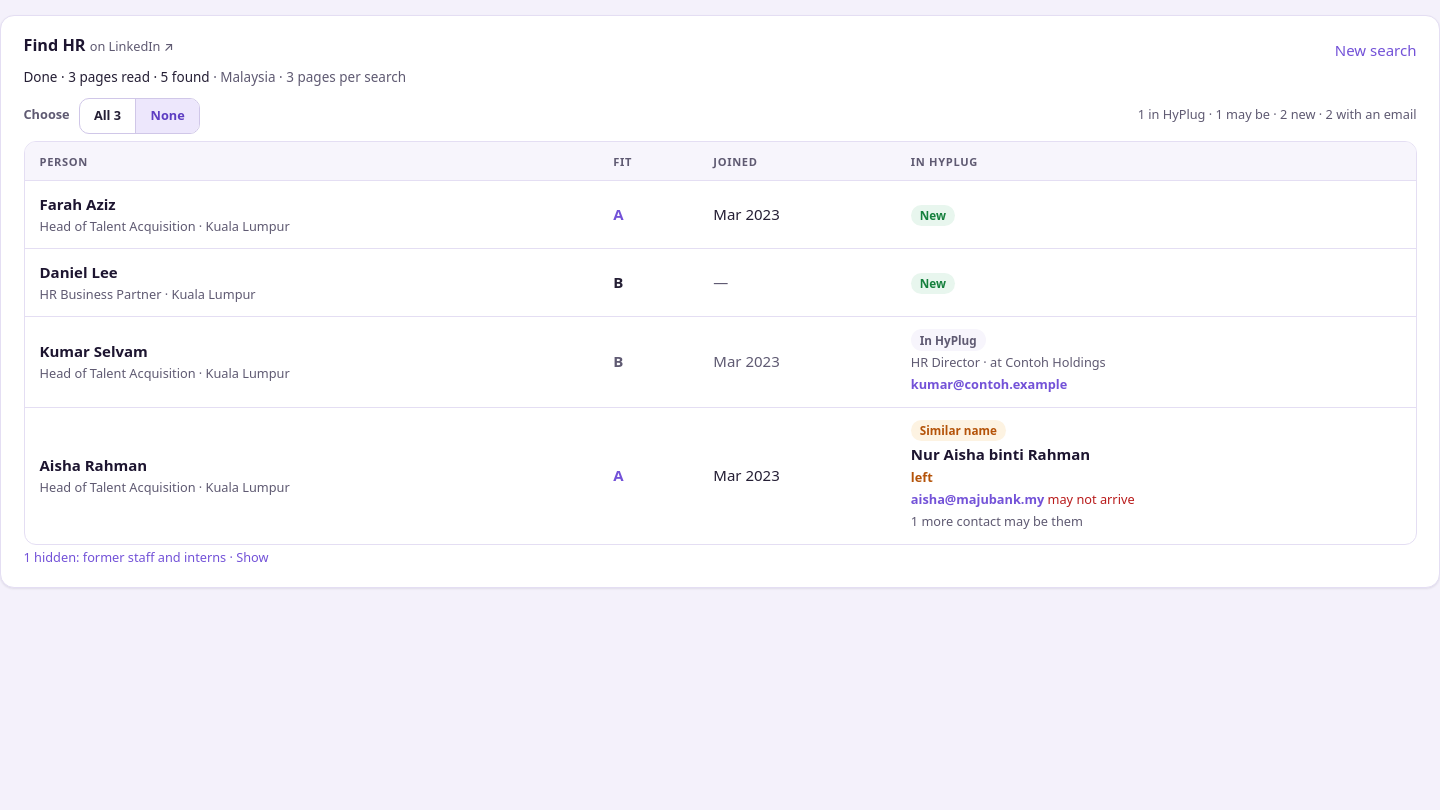
Test case: Find HR › chooses by clicking a row (not its name), All and None, and adds the chosen as contacts with a guessed email
Later steps or results of the test are not shown.
Click the link "Farah Aziz": [78, 204] box 40,194 -> 116,214
Click the text "Daniel Lee": [720, 283] box 24,249 -> 1416,317
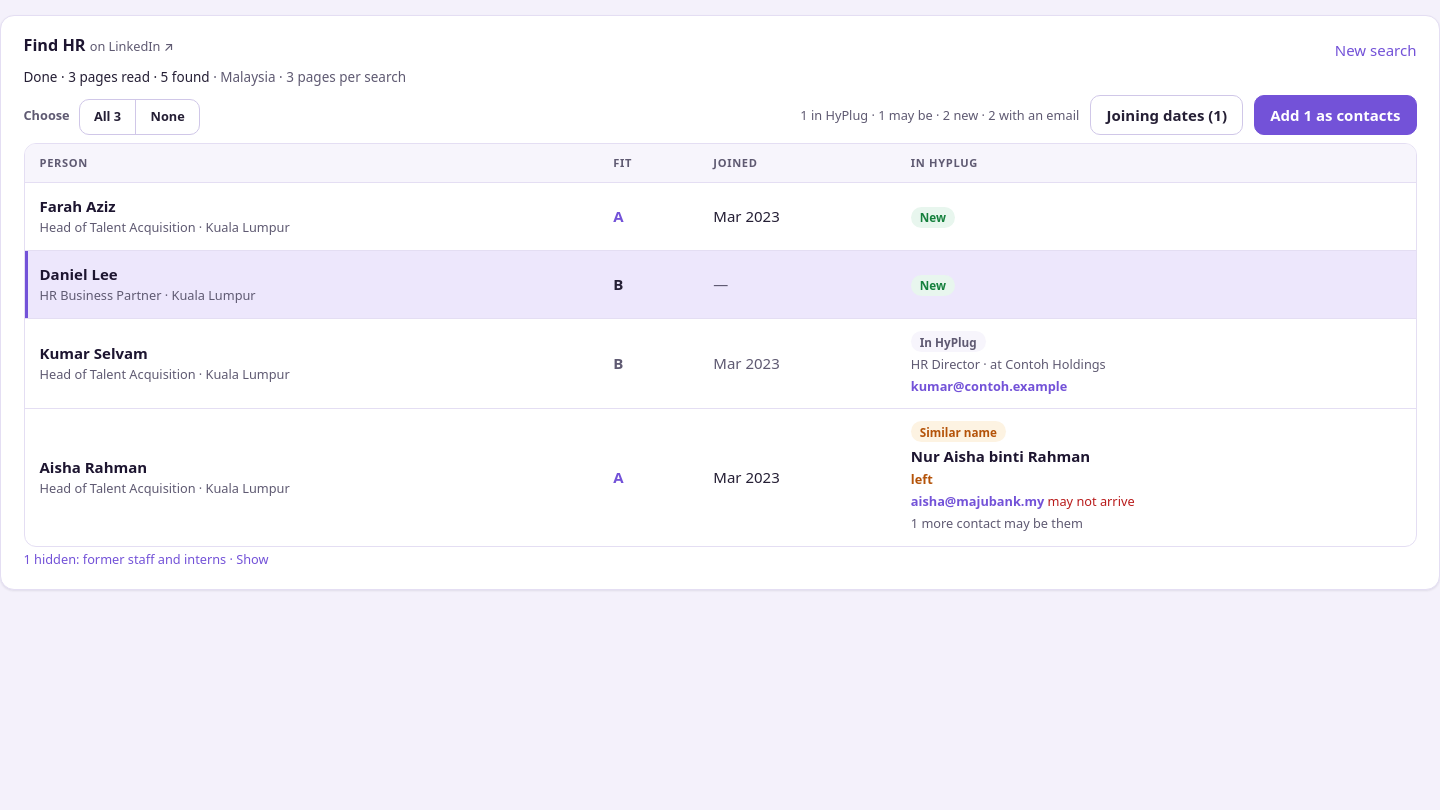
Expected: the text "Daniel Lee" is selected, 24,251 -> 1416,319
Click the button "All 3": [108, 117] box 80,100 -> 135,134
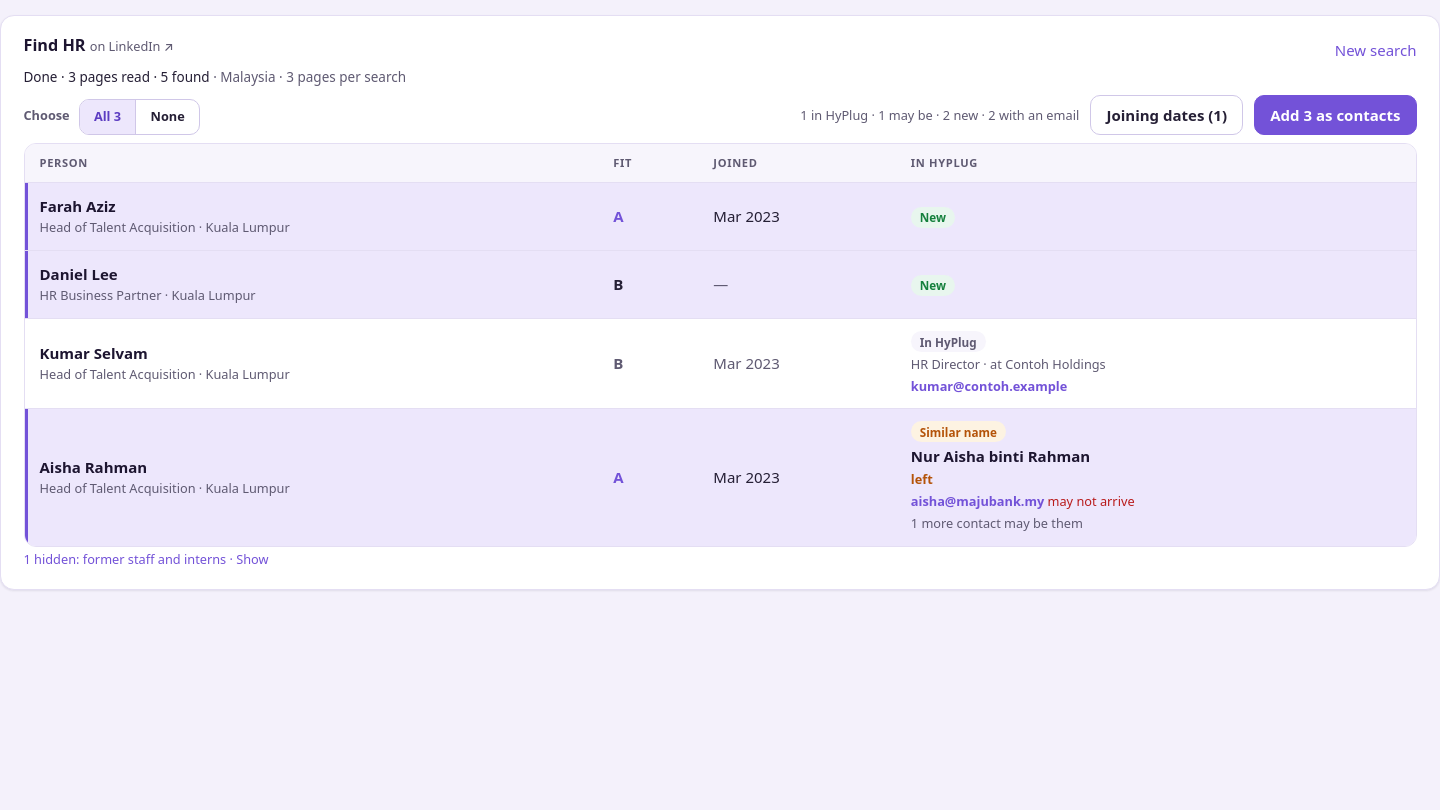
Expected: the button "Add 3 as contacts" is shown, 1254,96 -> 1416,136
Click the button "None": [167, 117] box 135,100 -> 199,134
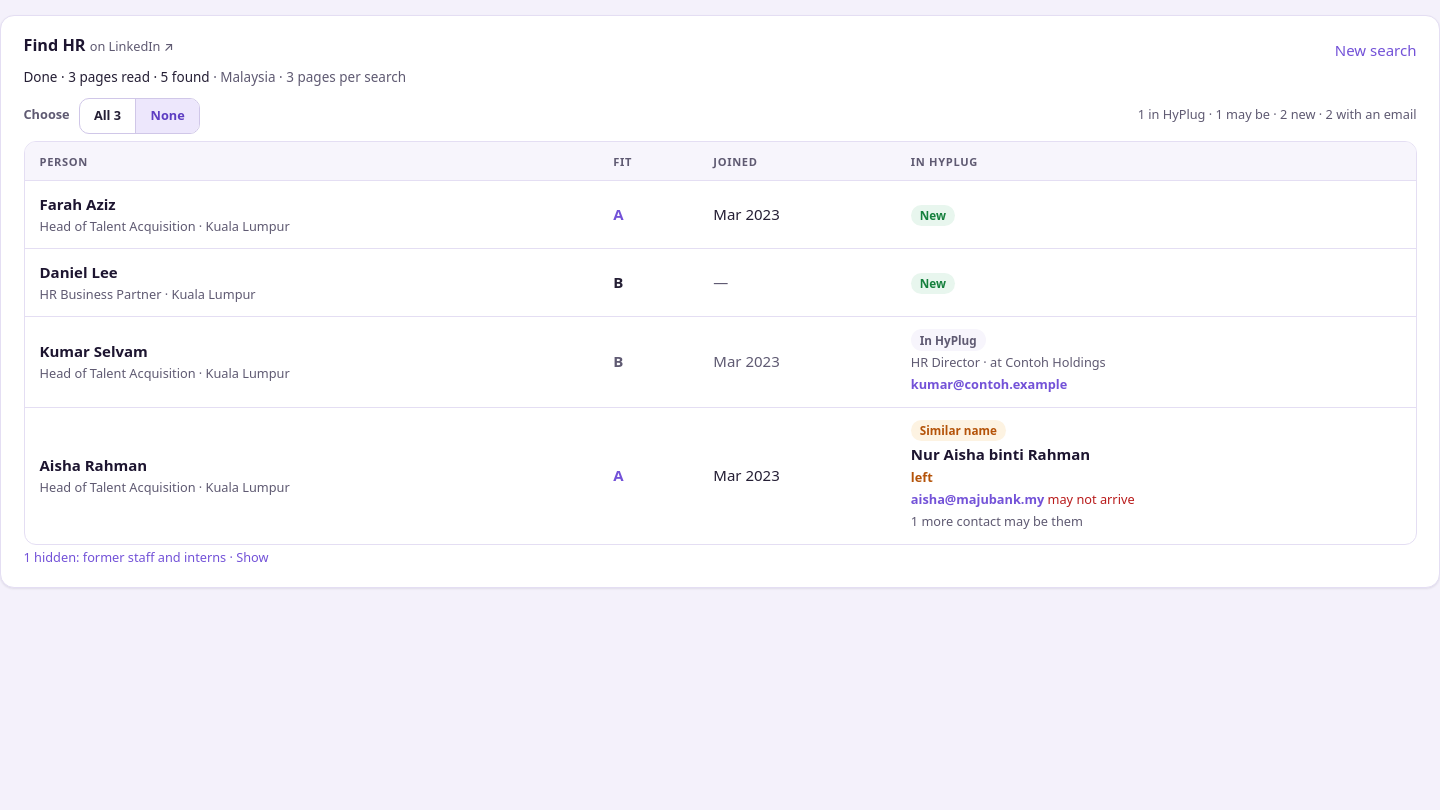
Expected: the button "as contacts" is gone
